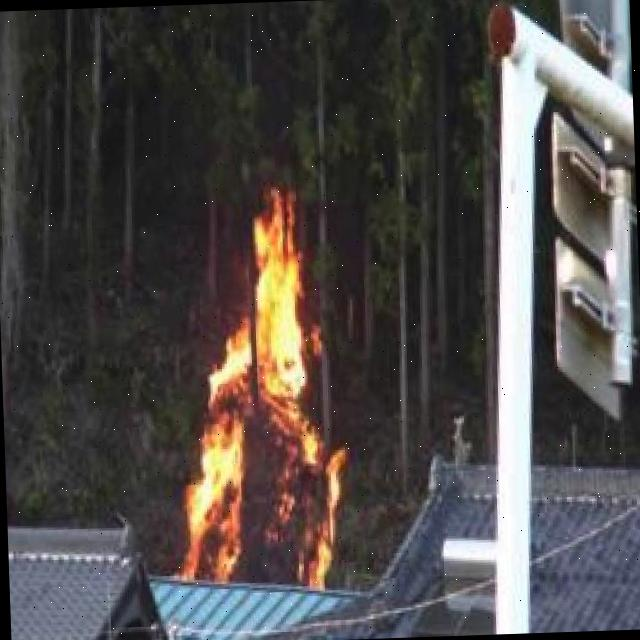fire: (165, 218, 358, 599)
